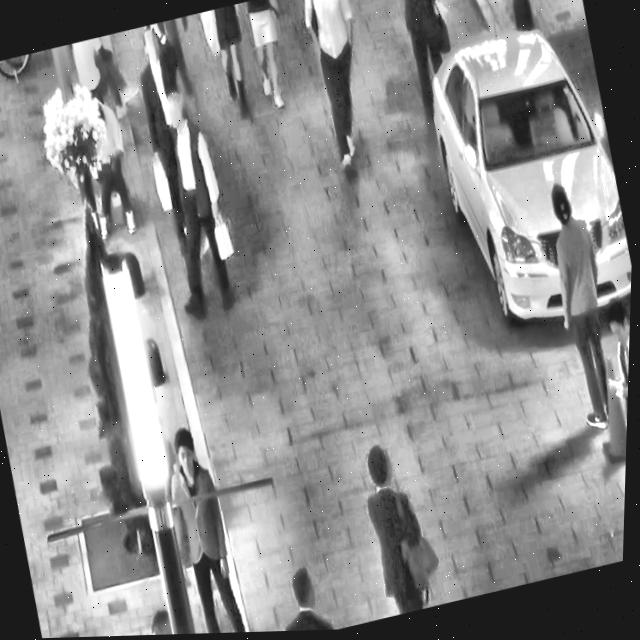light_vehicle: (405, 0, 640, 354)
